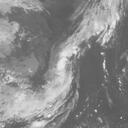cyclone: (37, 56, 79, 102)
